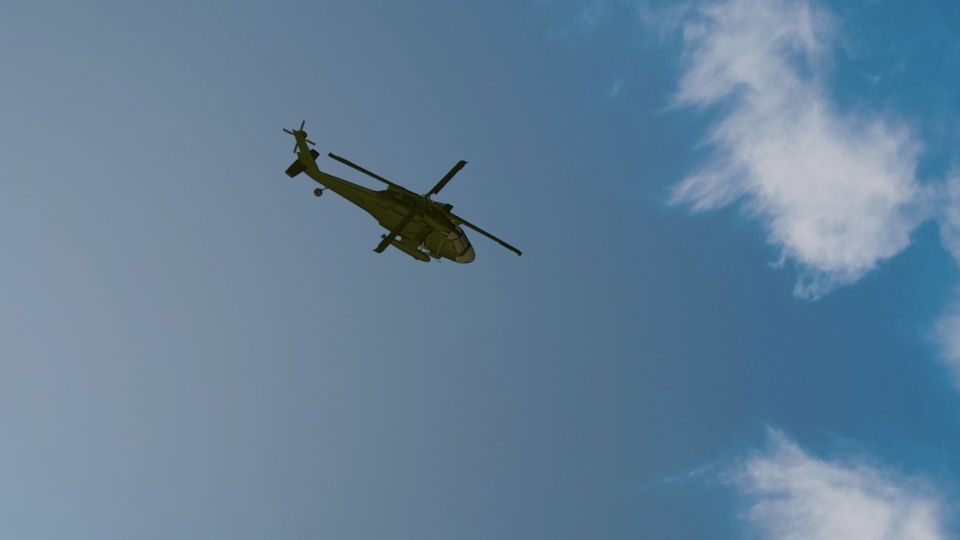heli: (282, 119, 522, 264)
